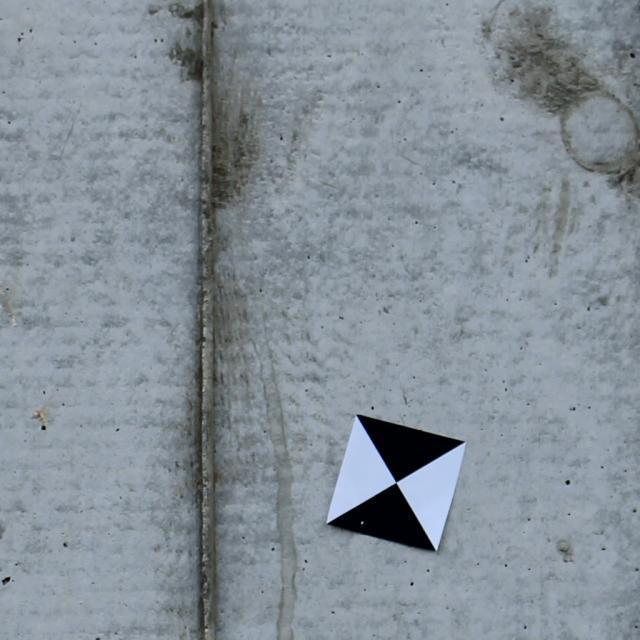D10: (482, 2, 639, 197)
